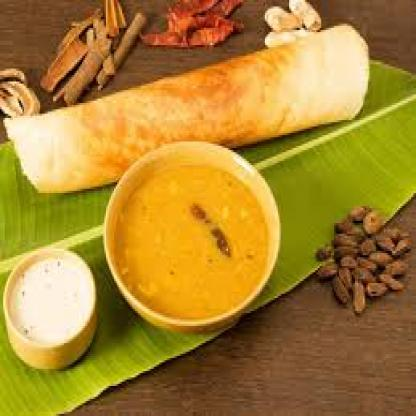dosa: (3, 25, 369, 193)
